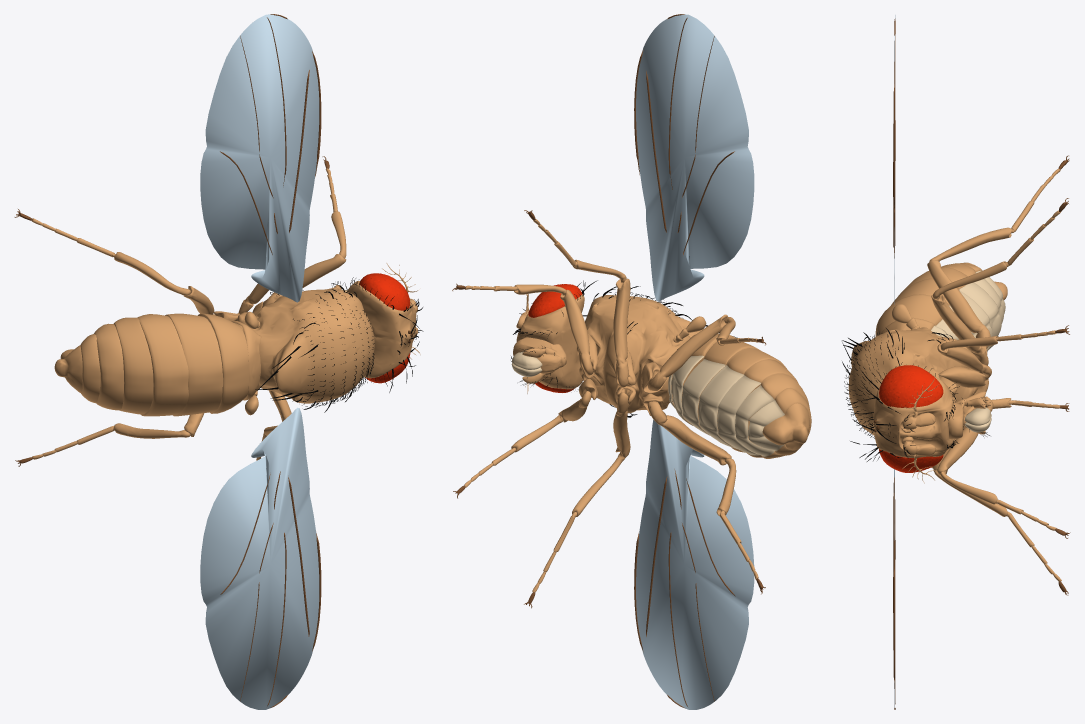
File: fly.glb
The picture shows the model from 3 angles, left to right: view 1: azimuth 30°, elevation 25°; view 2: azimuth 150°, elevation 25°; view 3: azimuth 270°, elevation 25°; orthographic projection.
Visible parts, largest first — view 1: wing_left_membrane, wing_right_membrane, thorax, abdomen_3, abdomen_4, head, abdomen_5, abdomen_2, abdomen_6, wing_right_brown, wing_left_brown, head_red (+7 smaller); view 2: wing_left_membrane, wing_right_membrane, thorax, head, wing_right_brown, abdomen_4_lower, wing_left_brown, abdomen_5_lower, abdomen_8, femur_T3_right, femur_T2_left, femur_T3_left (+14 smaller); view 3: thorax, head, head_red, femur_T3_left, abdomen_2, femur_T2_left, abdomen_4_lower, thorax_black, femur_T1_right, tibia_T3_left, rostrum, femur_T1_left (+14 smaller).
Boxes of the visible parts, x1=… form: wing_left_membrane: x1=200, y1=14, x2=319, y2=302; wing_right_membrane: x1=200, y1=407, x2=319, y2=709; thorax: x1=237, y1=287, x2=374, y2=403; abdomen_3: x1=165, y1=313, x2=222, y2=416; abdomen_4: x1=137, y1=314, x2=188, y2=416; head: x1=347, y1=281, x2=416, y2=378; abdomen_5: x1=113, y1=317, x2=153, y2=414; abdomen_2: x1=198, y1=313, x2=248, y2=413; abdomen_6: x1=94, y1=323, x2=123, y2=410; wing_right_brown: x1=220, y1=471, x2=321, y2=707; wing_left_brown: x1=220, y1=14, x2=321, y2=254; head_red: x1=359, y1=273, x2=410, y2=383; wing_left_membrane: x1=636, y1=14, x2=754, y2=301; wing_right_membrane: x1=636, y1=415, x2=754, y2=709; thorax: x1=577, y1=295, x2=703, y2=413; head: x1=516, y1=294, x2=584, y2=389; wing_right_brown: x1=634, y1=469, x2=735, y2=708; abdomen_4_lower: x1=698, y1=365, x2=743, y2=449; wing_left_brown: x1=634, y1=14, x2=734, y2=254; abdomen_5_lower: x1=717, y1=374, x2=760, y2=455; abdomen_8: x1=762, y1=403, x2=809, y2=450; femur_T3_right: x1=647, y1=401, x2=731, y2=465; femur_T2_left: x1=613, y1=278, x2=630, y2=387; femur_T3_left: x1=648, y1=314, x2=727, y2=390; thorax: x1=848, y1=327, x2=973, y2=435; head: x1=873, y1=374, x2=953, y2=457; head_red: x1=879, y1=365, x2=943, y2=472; femur_T3_left: x1=927, y1=260, x2=990, y2=348; abdomen_2: x1=875, y1=294, x2=948, y2=336; femur_T2_left: x1=931, y1=294, x2=988, y2=365; abdomen_4_lower: x1=959, y1=282, x2=1001, y2=349; thorax_black: x1=842, y1=328, x2=953, y2=438; femur_T1_right: x1=937, y1=396, x2=993, y2=474; tibia_T3_left: x1=929, y1=227, x2=1012, y2=261; rostrum: x1=949, y1=398, x2=985, y2=439; femur_T1_left: x1=937, y1=342, x2=991, y2=380.
Size of the model in its own units: 3.01 by 6.11 by 1.84.
